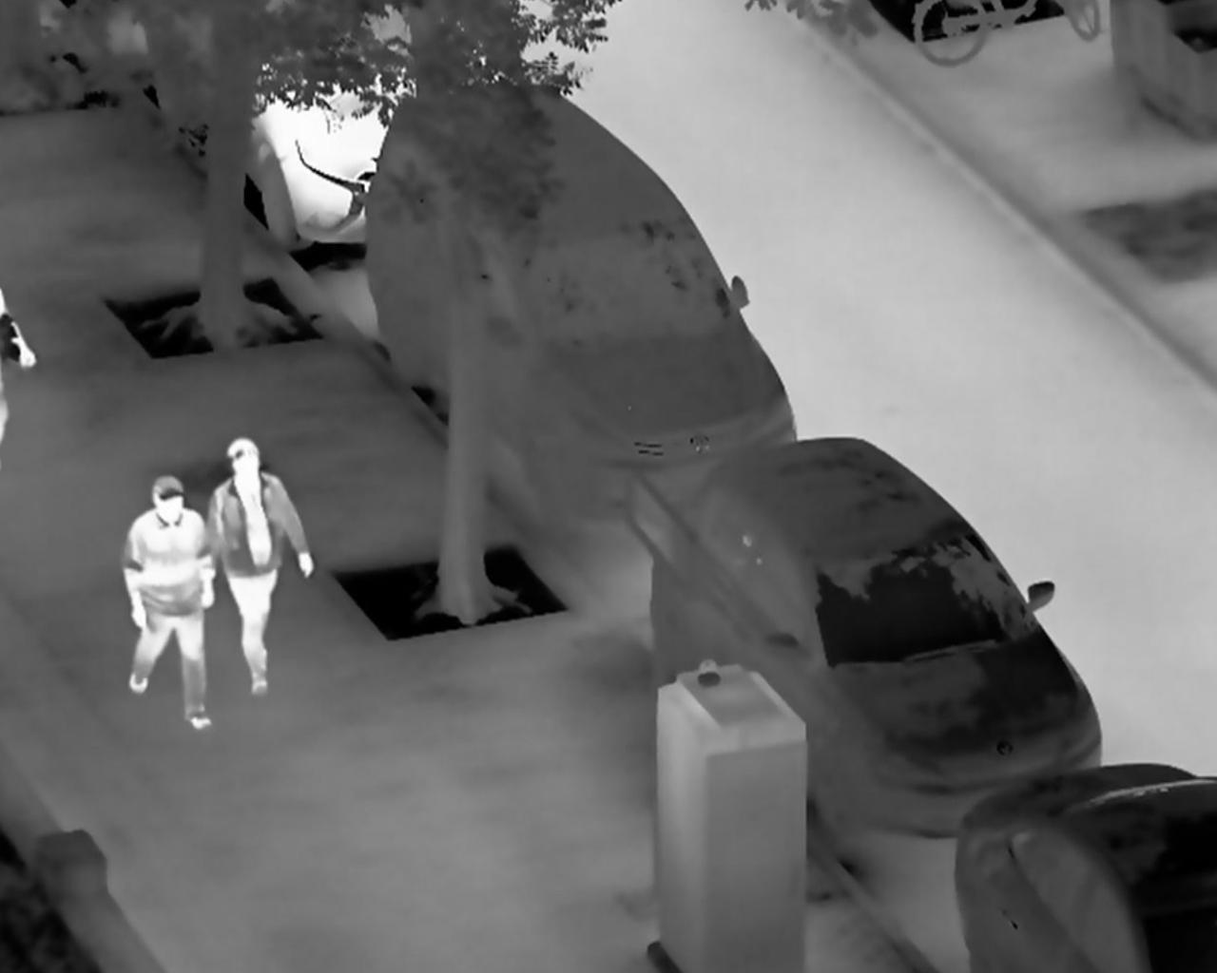person: (205, 437, 313, 697), (121, 472, 215, 731)
